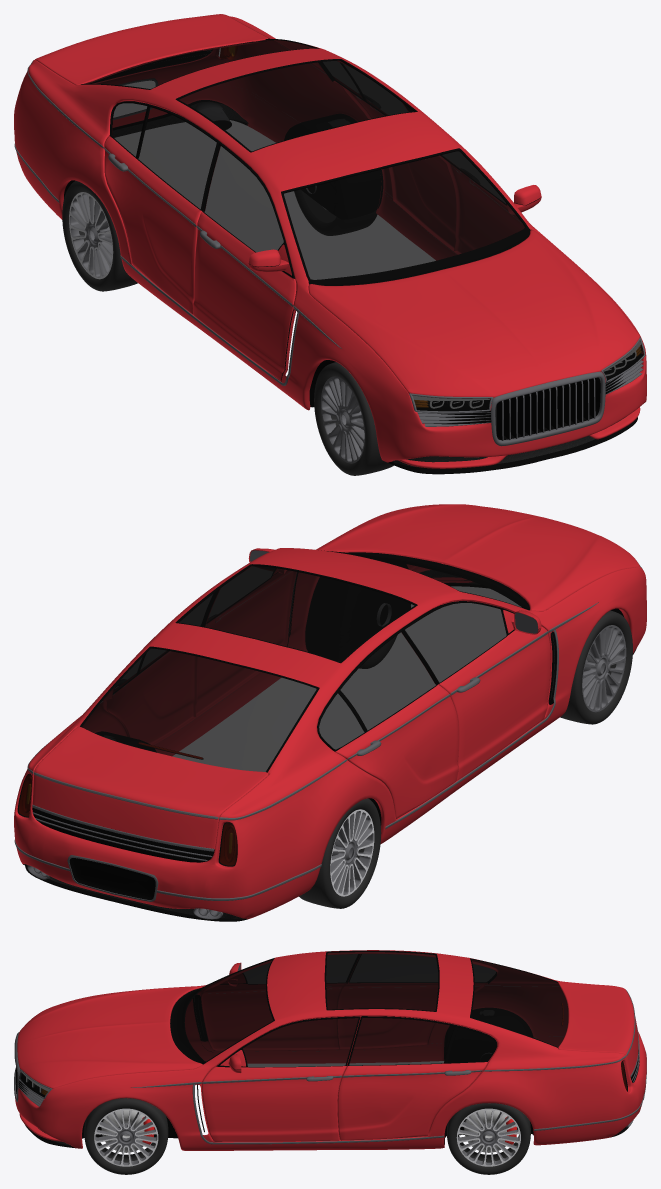
The model's file is sedan-source.glb.
3 views of the same model, one above another, from view 1: azimuth 30°, elevation 25°; view 2: azimuth 150°, elevation 25°; view 3: azimuth 270°, elevation 25° (orthographic). The views are drawn at different scales.
Visible parts, largest first — view 1: Body, WheelFrontRRim, WheelRearRRim, WheelRearLRim; view 2: Body, WheelFrontRRim, WheelRearRRim; view 3: Body, WheelFrontLRim, WheelRearLRim.
Boxes of the visible parts, bbox=[...] form: Body: bbox=[14, 14, 646, 474]; WheelFrontRRim: bbox=[314, 362, 393, 475]; WheelRearRRim: bbox=[62, 181, 137, 291]; WheelRearLRim: bbox=[294, 119, 376, 235]; Body: bbox=[14, 504, 646, 921]; WheelFrontRRim: bbox=[560, 610, 632, 724]; WheelRearRRim: bbox=[299, 798, 381, 908]; Body: bbox=[14, 950, 646, 1150]; WheelFrontLRim: bbox=[84, 1098, 168, 1174]; WheelRearLRim: bbox=[447, 1103, 530, 1174].
Bounding box in the file's own units: 1.78 × 1.25 × 4.68.
Materials: 14 (1 with a texture image).
